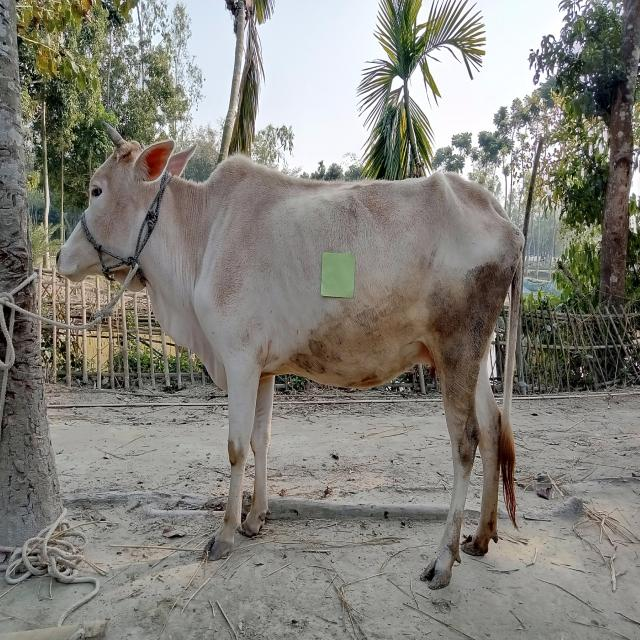badan_sapi: (225, 171, 480, 380)
sapi: (54, 123, 526, 588)
